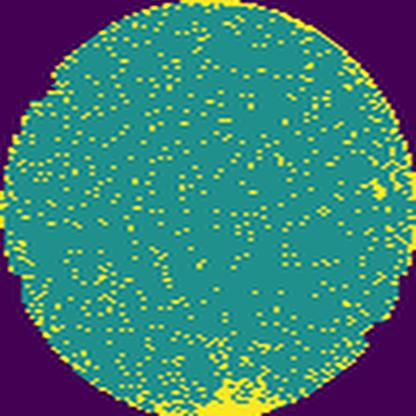Edge-Loc: (150, 373, 300, 416)
